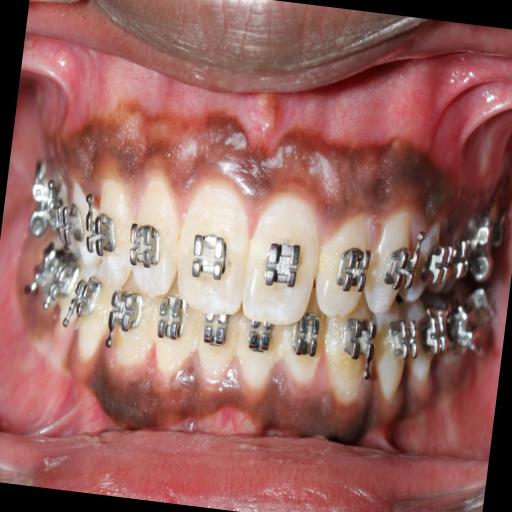correct_brace: (259, 230, 306, 292), (186, 224, 233, 284), (124, 211, 164, 276), (79, 204, 121, 262), (334, 240, 376, 296), (382, 242, 420, 294)
incorrect_brace: (126, 170, 188, 300), (314, 206, 377, 316)
